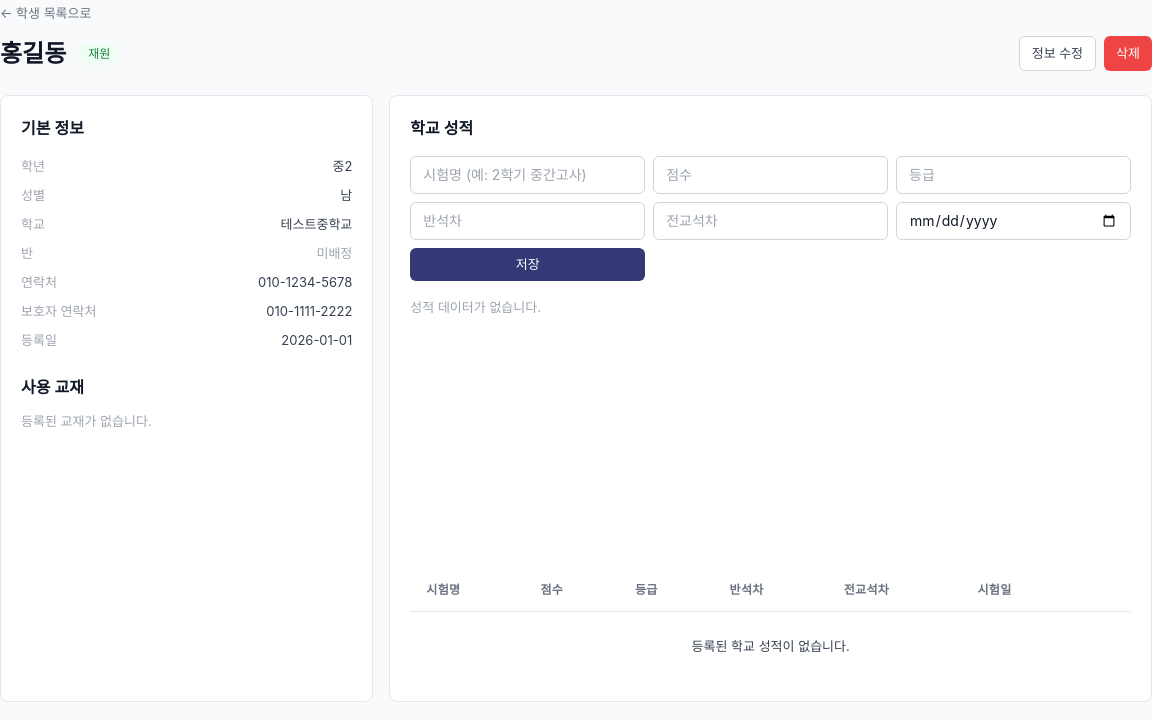
Scenario: 학생 상세 페이지: 학교 성적 섹션 › apiClient.post가 실패하면 인라인 에러가 표시되고 목록에 낙관적으로 추가되지 않는다
This screenshot has width=1152, height=720.
Expected: the heading "홍길동" is shown, [0,36,66,70]
Type "실패할 시험" into the field with placeholder "시험명 (예: 2학기 중간고사)".
click(528, 175); type("실패할 시험")  # box [410,156,645,194]
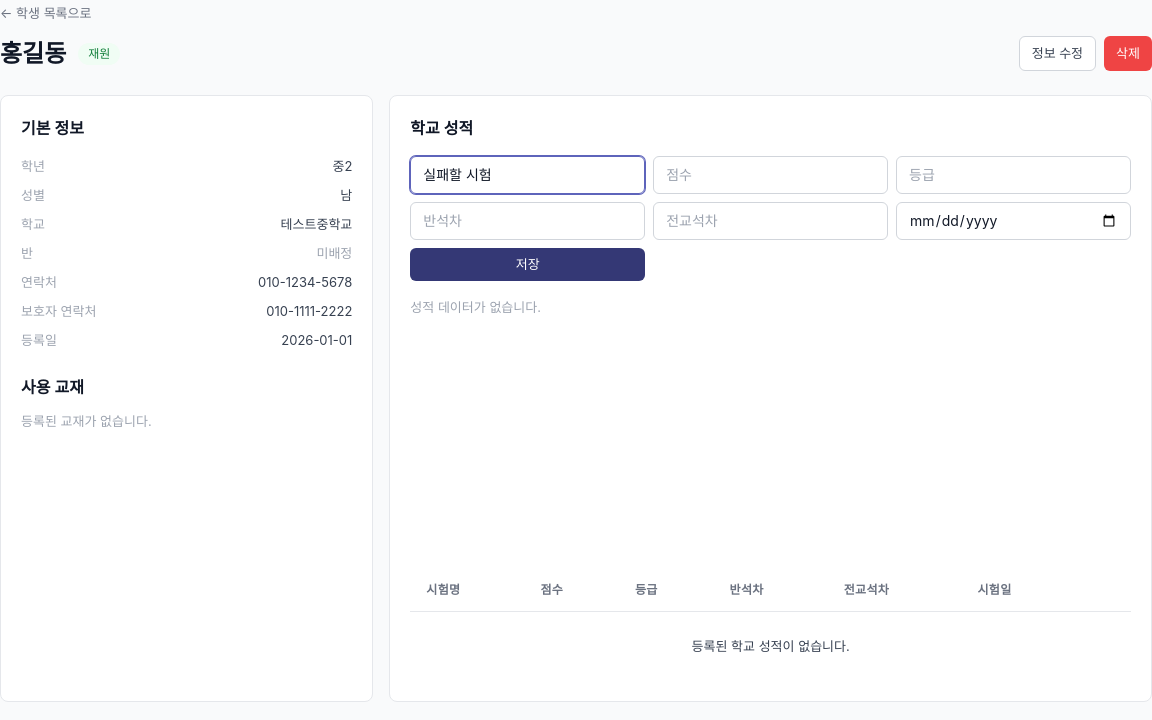
Type "80" into the field with placeholder "점수".
click(771, 175); type("80")  # box [653,156,888,194]
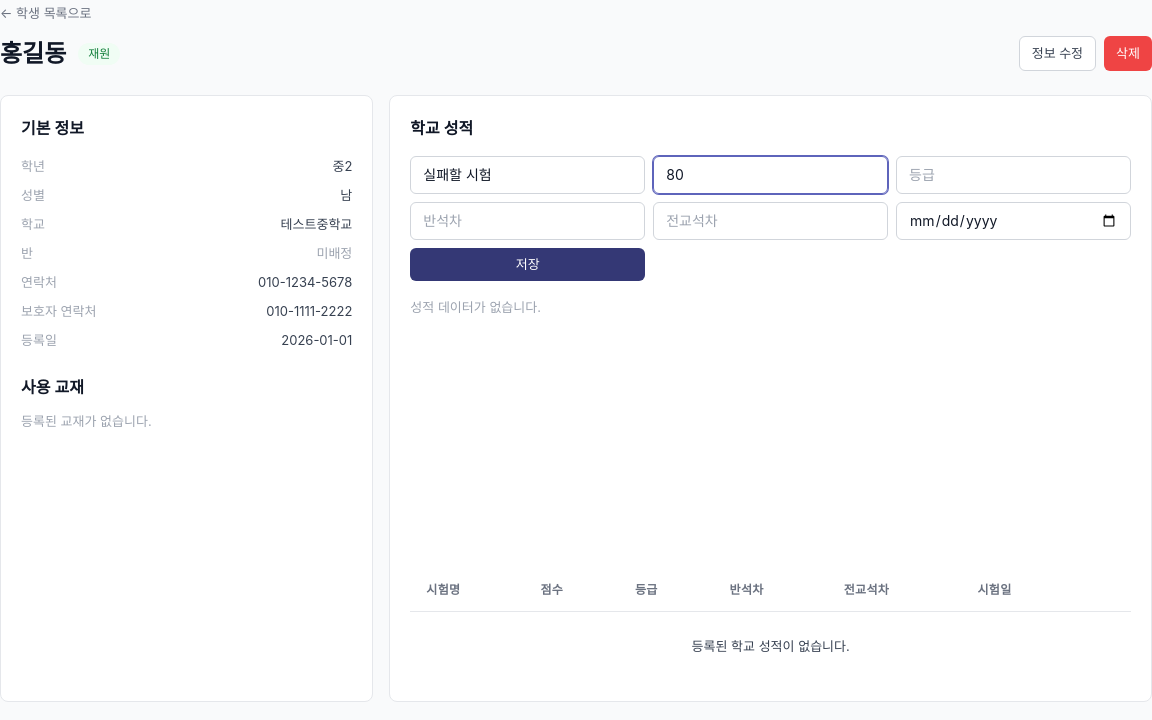
Type "2026-09-01" into the date field.
click(1014, 221); type("2026-09-01")  # box [896,202,1131,240]
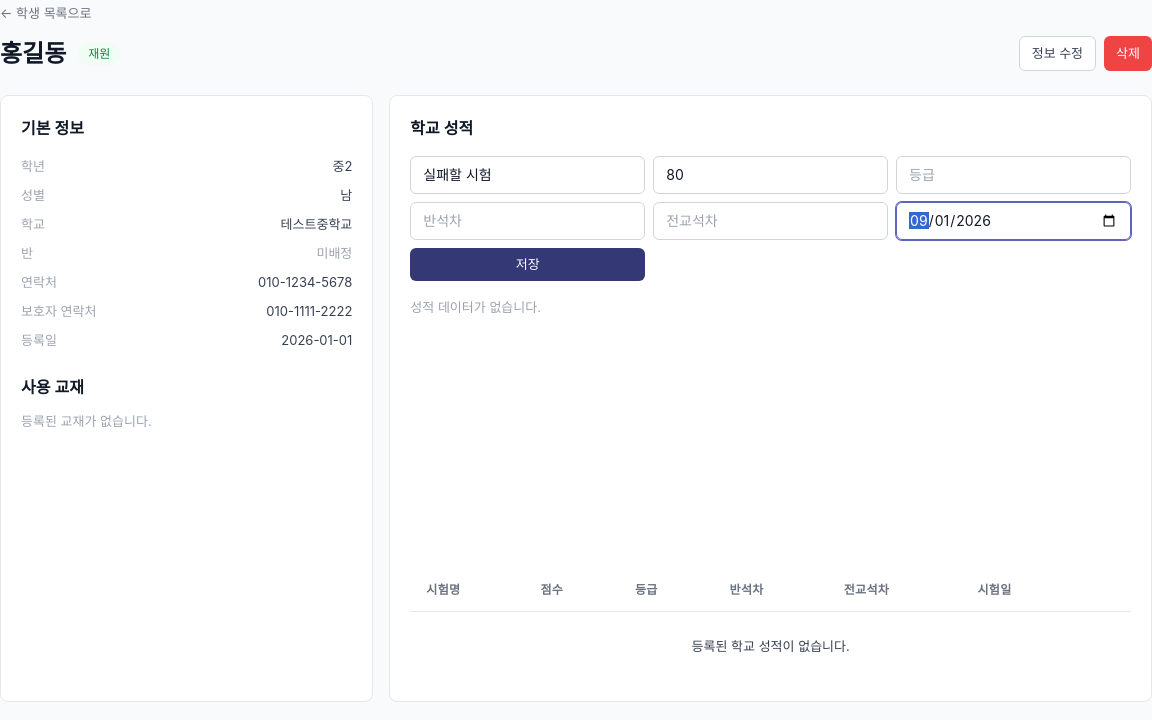
Click the button "저장".
click(528, 264)  # box [410,248,645,281]
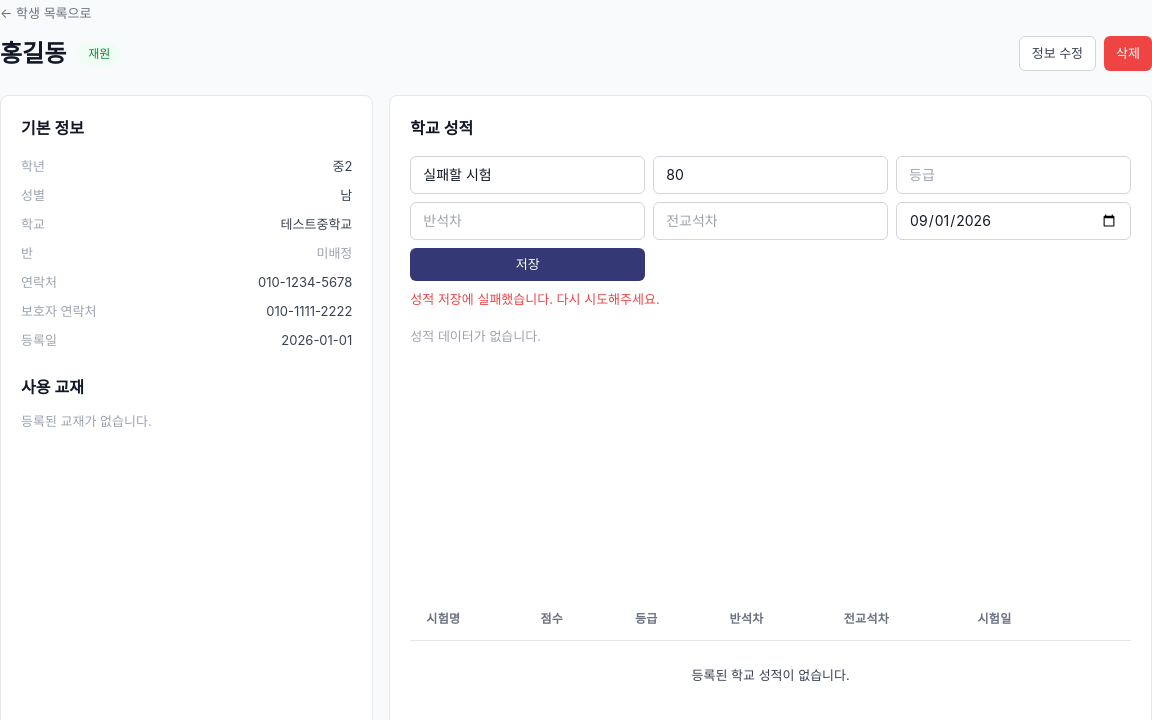
Now the text "성적 저장에 실패했습니다. 다시 시도해주세요." is shown, box [410,291,660,307]
